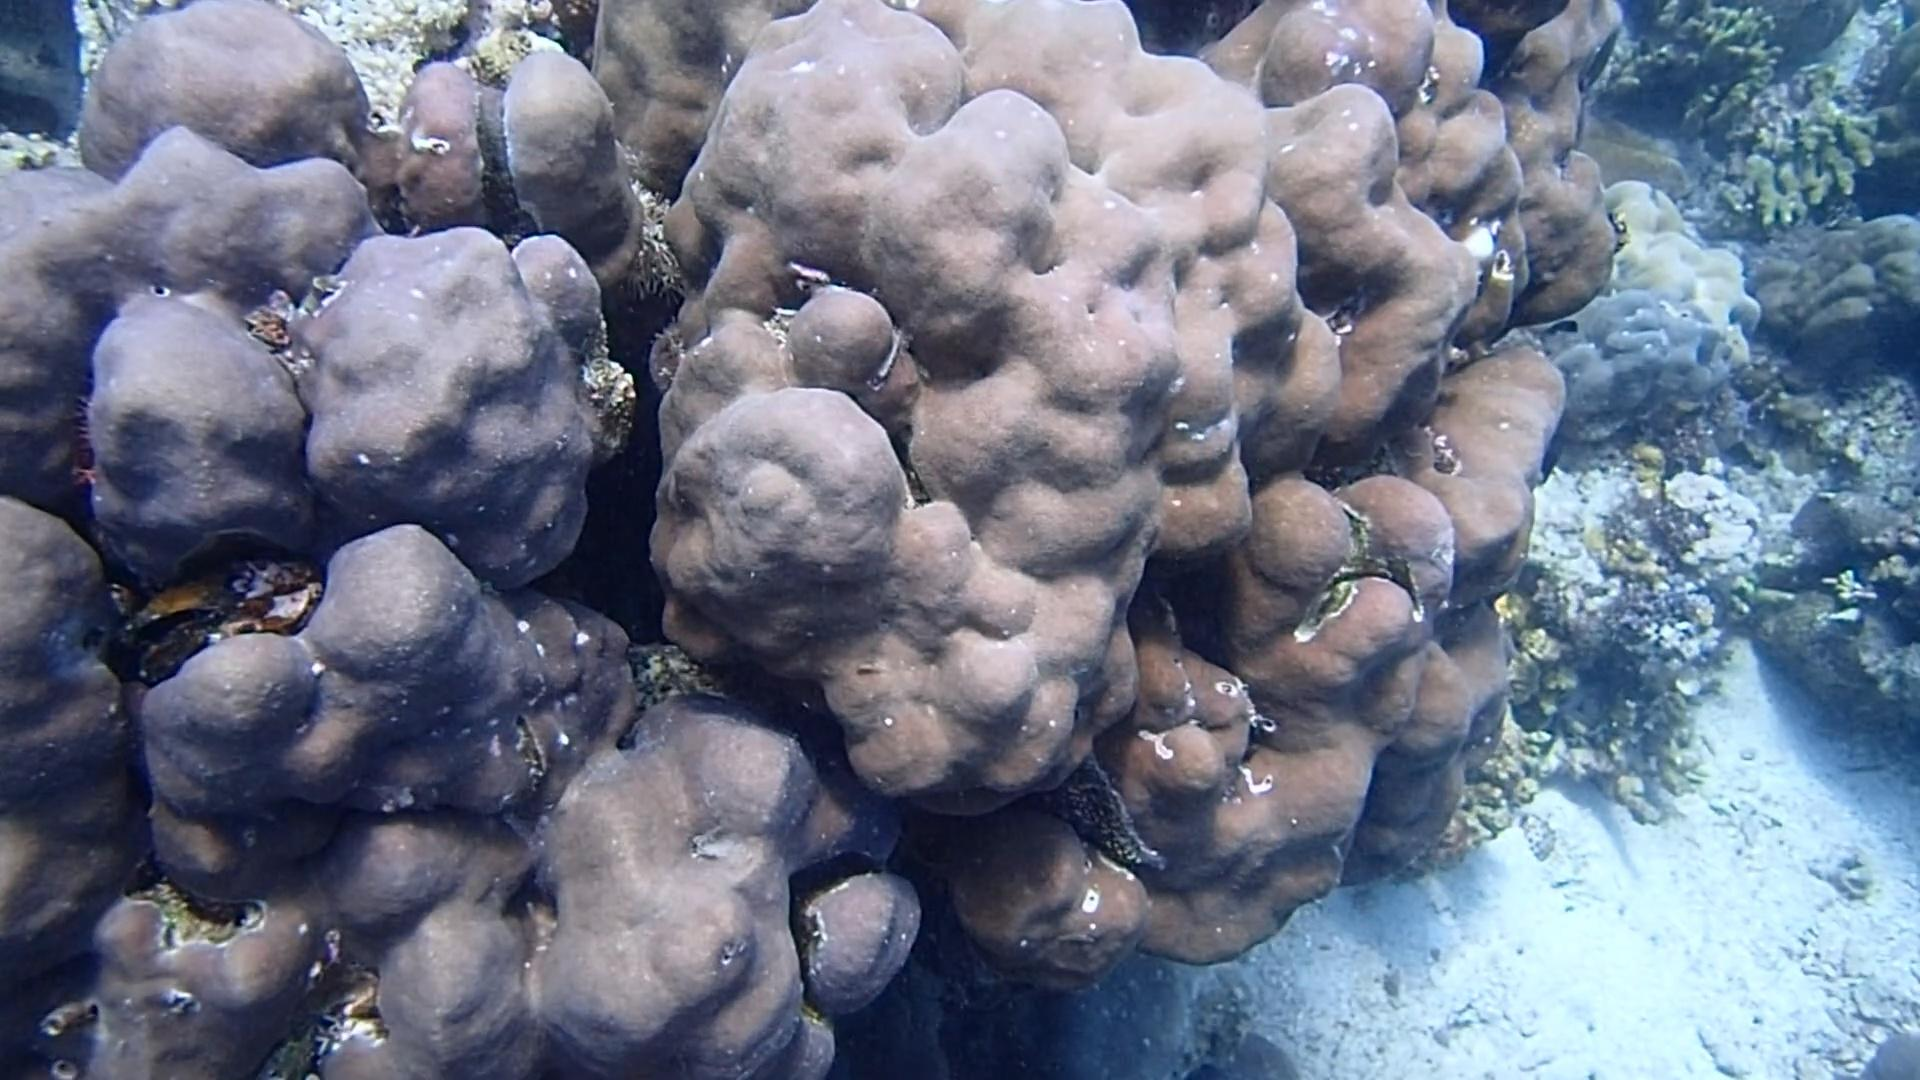Dark Fish: (1543, 313, 1588, 338)
